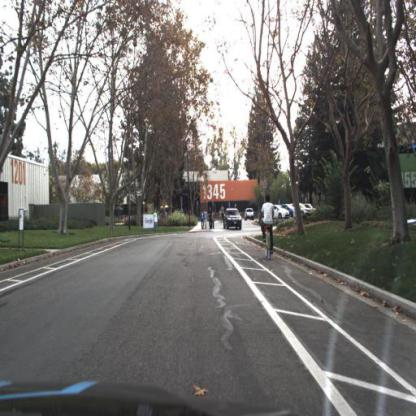biker: (262, 194, 274, 262), (262, 195, 274, 260)
car: (222, 206, 243, 233), (224, 208, 243, 231), (245, 207, 257, 223)
pedestrian: (209, 206, 214, 233), (201, 210, 206, 232), (204, 208, 208, 231), (213, 209, 217, 230)
